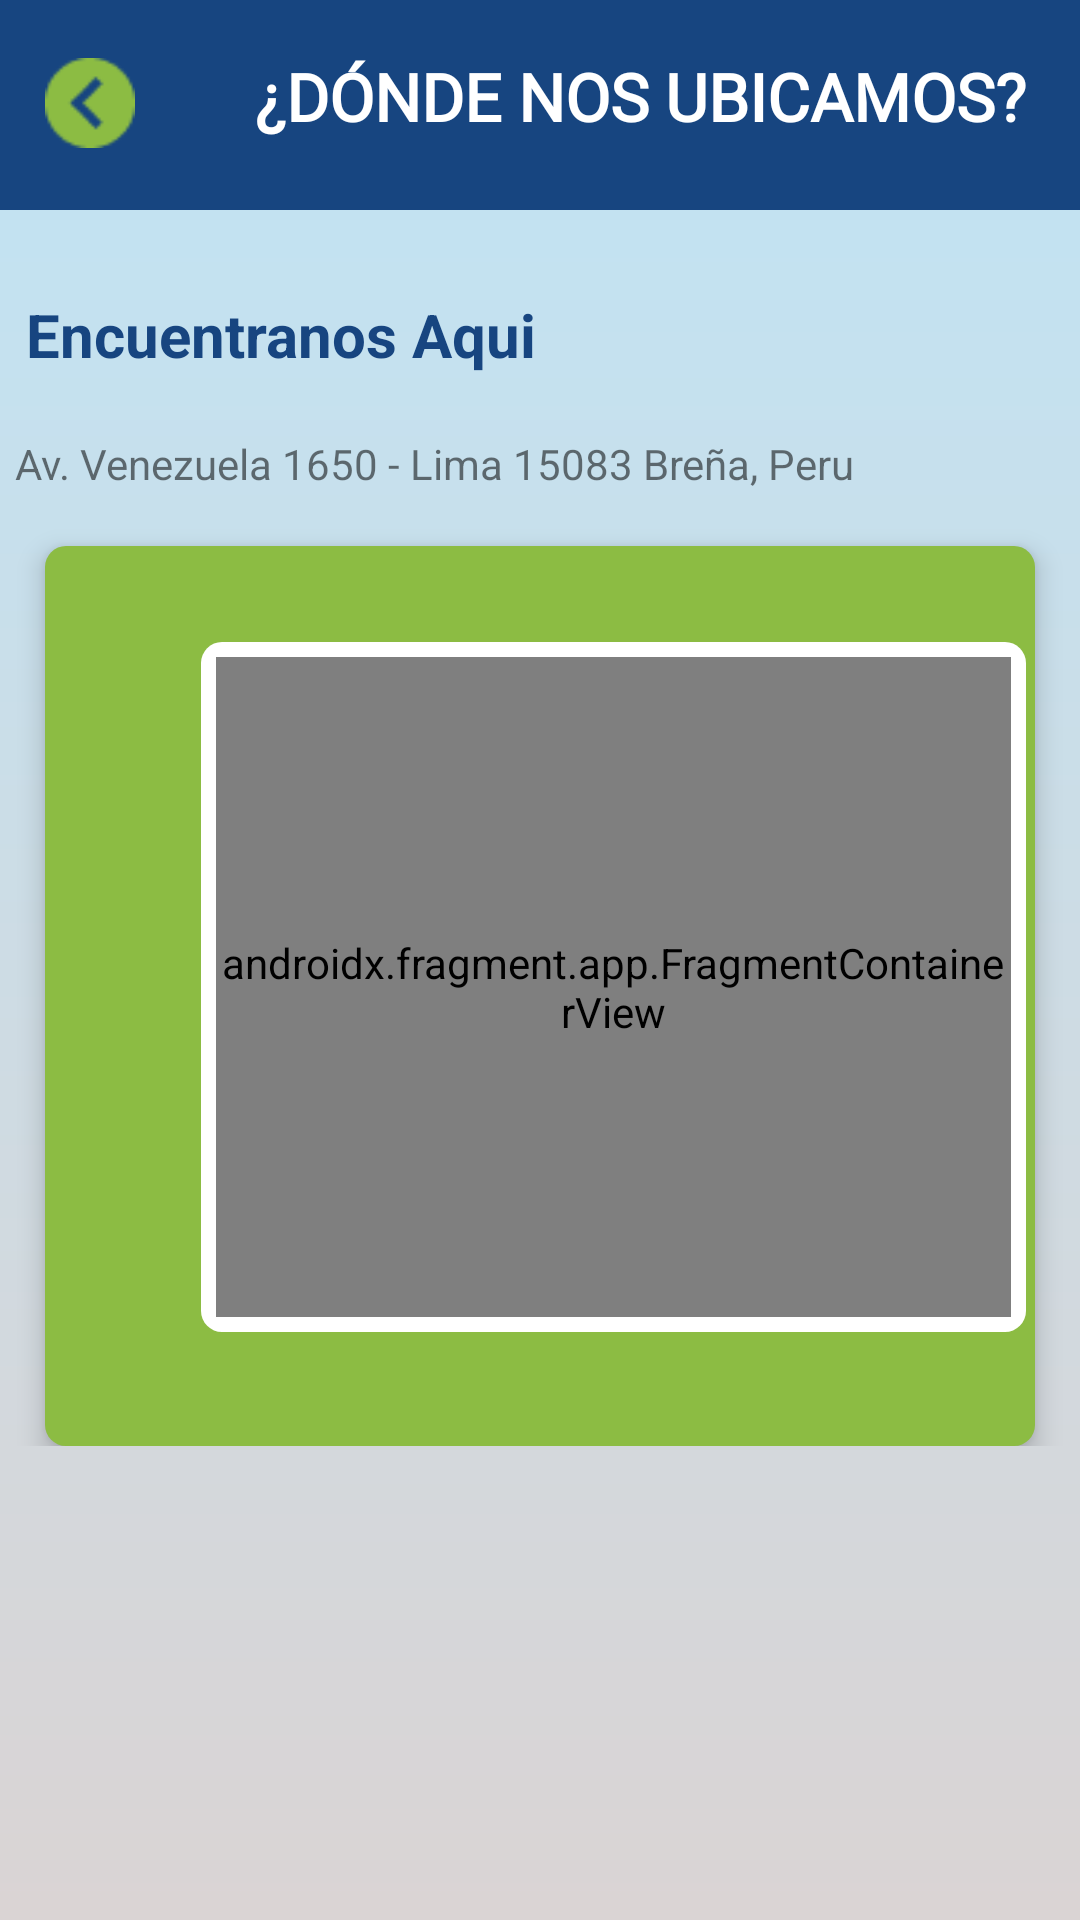

Locate icon controls on the screen. Image size 1080px x 1920px, boxes as box=[x1, y1, x2, y2].
back: box=[45, 58, 135, 148]
